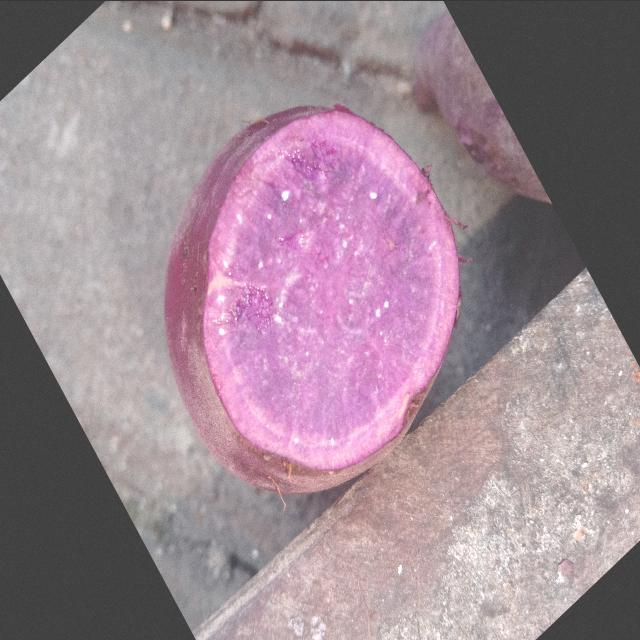Healthy Sweet Potato: (204, 108, 460, 470)
